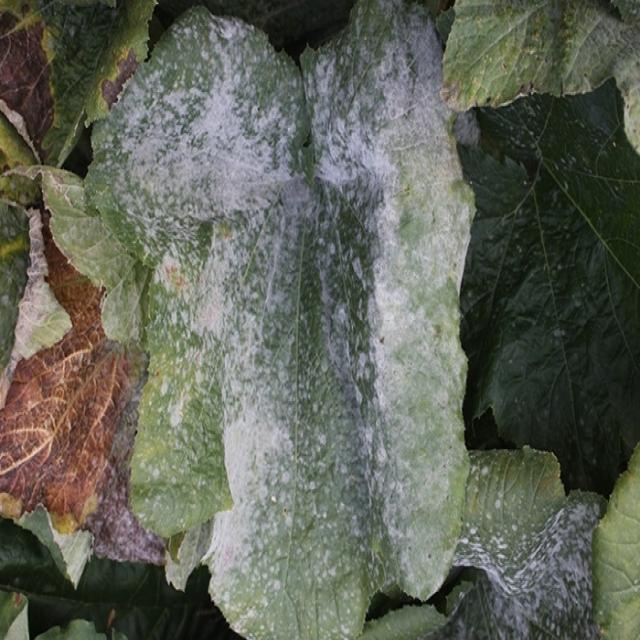Powdery Mildew: (82, 1, 478, 638)
